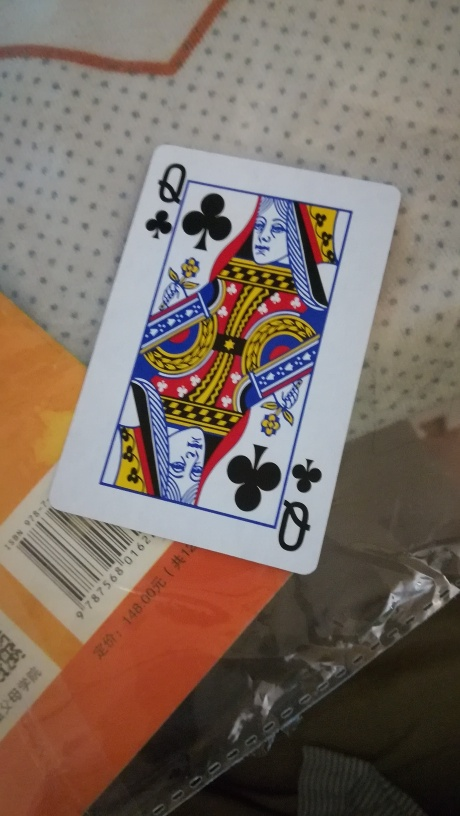mh q: (48, 141, 404, 573)
